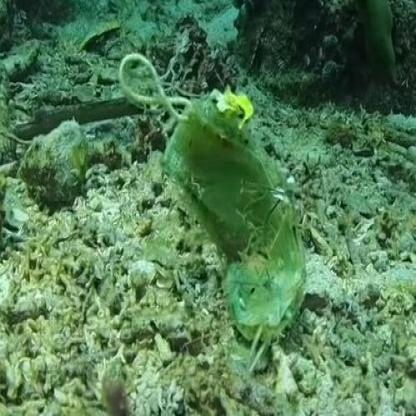Mask: (119, 51, 310, 378)
